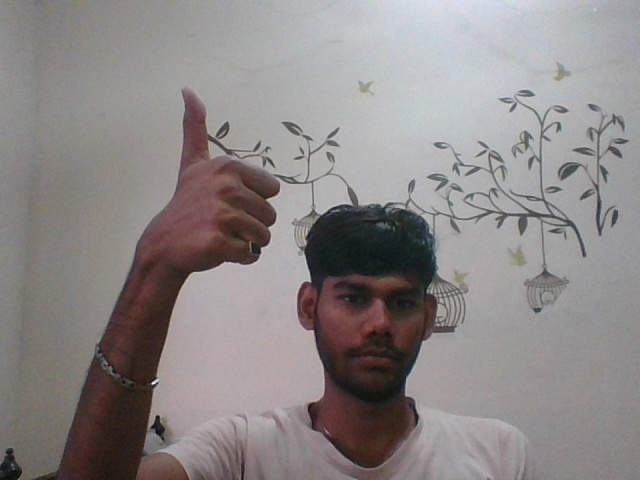Yes: (144, 83, 280, 285)
